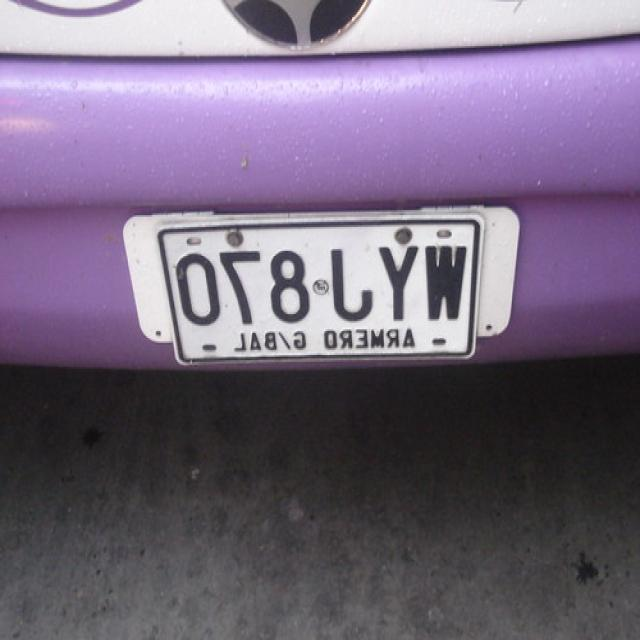placas: (160, 237, 467, 332)
